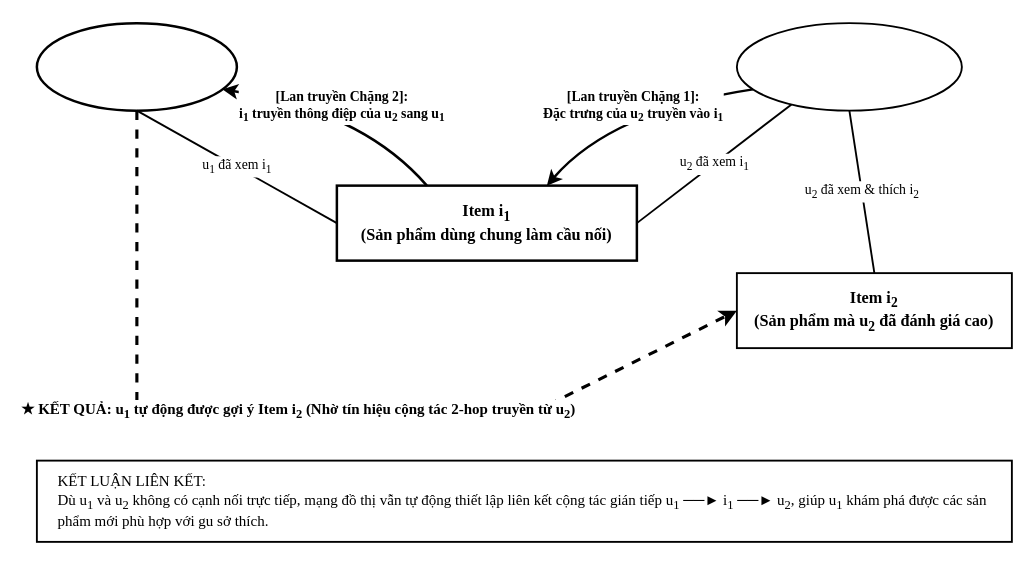
The diagram is 1035 pixels wide and 564 high, and some of its shapes have lost their labels. Here are the shapes that lost their labels. From the top down, the centre of each, then its label:
At [136,66]: "User u 1 (Người nhận gợi ý)".
At [848,66]: "User u 2 (Người cùng sở thích)".
